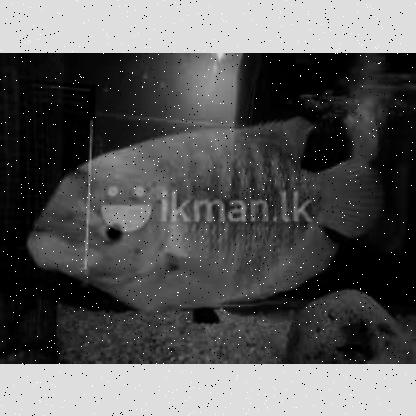gurame: (37, 119, 364, 304)
